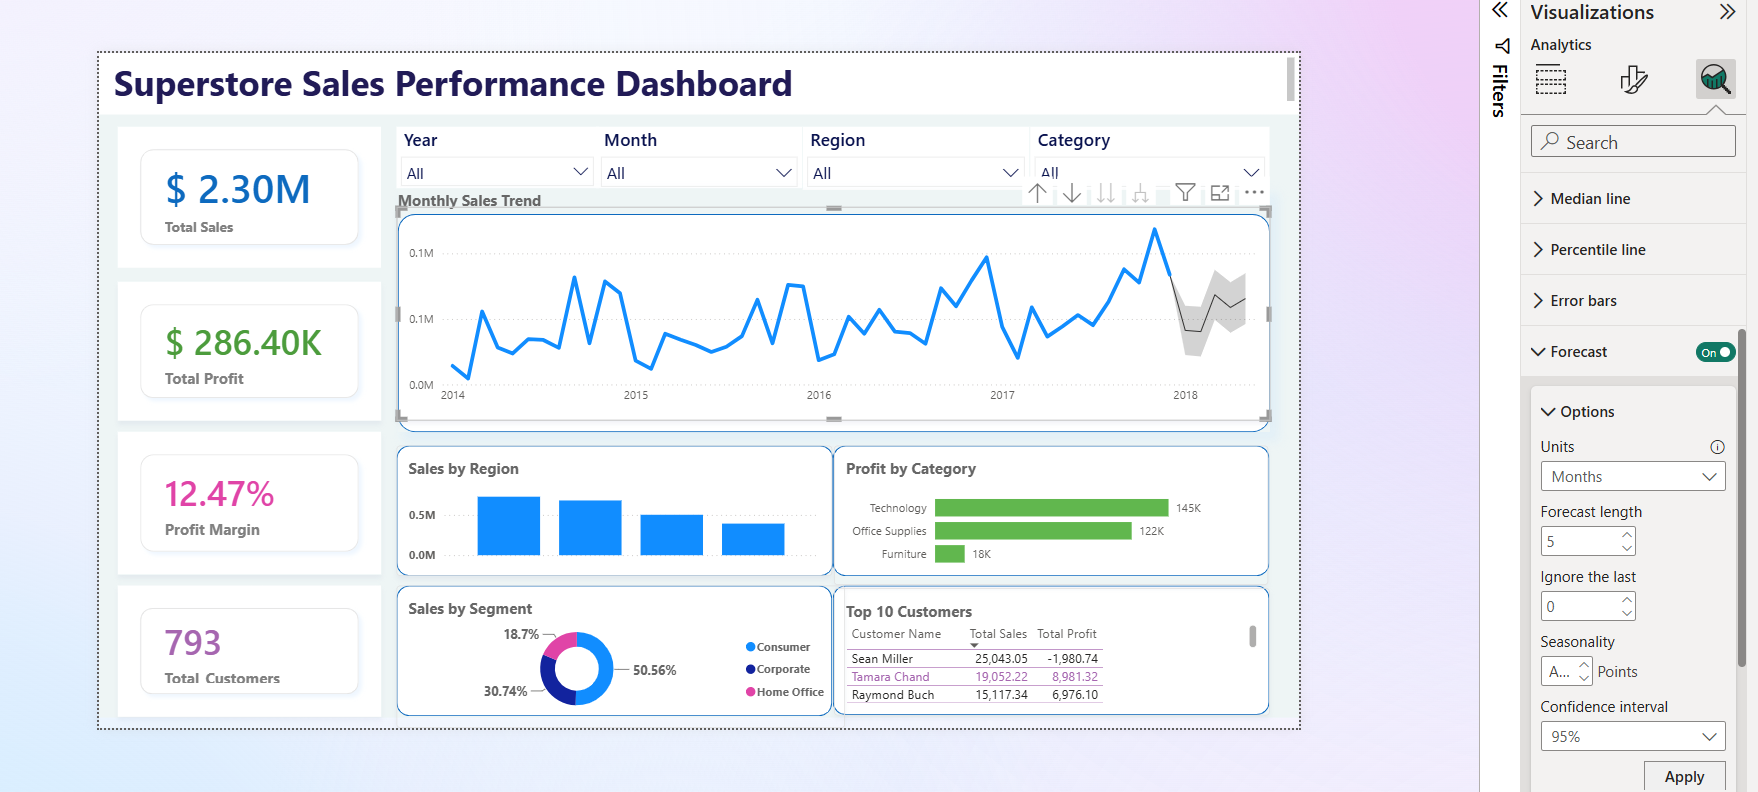

Layout of this report page (visuals, bound fields, positions):
{"tool":"powerbi","page":{"name":"Page 1","canvas":[1280,720],"ordinal":0},"visuals":[{"type":"shape","box":[0,54.3,1280,654.3],"z":0},{"type":"textbox","box":[0,0,1280.3,65.9],"z":1000},{"type":"cardVisual","fields":{"Data":["Sample - Superstore.Total_Sales"]},"box":[20,78.6,281.4,150],"z":2000},{"type":"cardVisual","fields":{"Data":["Sample - Superstore.Total_Profit"]},"box":[20,244.3,281.4,148.6],"z":3000},{"type":"cardVisual","fields":{"Data":["Sample - Superstore.Profit_Margin"]},"box":[20,404.3,281.4,152.9],"z":4000},{"type":"cardVisual","fields":{"Data":["Sample - Superstore.Total_Customers"]},"box":[20,568.6,281.4,140],"z":5000},{"type":"slicer","fields":{"Values":["Sample - Superstore.Clean_Order_Date.Variation.Date Hierarchy.Year"]},"box":[317,78.2,215.4,65.9],"z":6000},{"type":"slicer","fields":{"Values":["Sample - Superstore.Clean_Order_Date.Variation.Date Hierarchy.Month"]},"box":[531,78.2,219.6,65.9],"z":7000},{"type":"slicer","fields":{"Values":["Sample - Superstore.Region"]},"box":[750.6,78.2,241.5,67.2],"z":8000},{"type":"slicer","fields":{"Values":["Sample - Superstore.Category"]},"box":[992.9,78.3,255.6,67.3],"z":9000},{"type":"shape","title":"Monthly Sales Trend","box":[318.4,145.5,930.4,259.3],"z":10000},{"type":"lineChart","title":"Total Sales by Month","fields":{"Y":["Sample - Superstore.Total_Sales"],"Category":["Sample - Superstore.Clean_Order_Date.Variation.Date Hierarchy.Year","Sample - Superstore.Clean_Order_Date.Variation.Date Hierarchy.Month"]},"box":[317,164.7,931.7,227.8],"z":11000},{"type":"shape","box":[316.7,418.2,465.9,139.4],"z":12000},{"type":"shape","box":[782.6,418.2,465.9,139.4],"z":13000},{"type":"shape","box":[317.9,567.4,464.7,139.4],"z":14000},{"type":"shape","box":[782.6,567.4,465.9,138.2],"z":15000},{"type":"clusteredColumnChart","title":" Sales by Region","fields":{"Category":["Sample - Superstore.Region"],"Y":["Sample - Superstore.Total_Sales"]},"box":[317.9,418.2,464.7,139.4],"z":16000},{"type":"clusteredBarChart","title":" Profit by Category","fields":{"Y":["Sum(Sample - Superstore.Profit)"],"Category":["Sample - Superstore.Category"]},"box":[783.8,418.2,463.5,149.2],"z":17000},{"type":"donutChart","title":"Sales by Segment","fields":{"Category":["Sample - Superstore.Segment"],"Y":["Sample - Superstore.Total_Sales"]},"box":[317.9,568.6,478.1,151.6],"z":18000},{"type":"tableEx","title":"Top 10 Customers","fields":{"Values":["Sample - Superstore.Customer Name","Sample - Superstore.Total_Sales","Sample - Superstore.Total_Profit"]},"box":[783.8,571.1,464.7,135.7],"z":19000}]}

Visuals, with their boxes on the page's 1280x720 design canvas (x1, y1, x2, y2). These are canvas units, not pixel positions in the 1758x792 screenshot, which may show the page scaled, cropped or inside an application window:
shape: (x1=0, y1=54, x2=1280, y2=709)
textbox: (x1=0, y1=0, x2=1280, y2=66)
cardVisual - Sample - Superstore.Total_Sales: (x1=20, y1=79, x2=301, y2=229)
cardVisual - Sample - Superstore.Total_Profit: (x1=20, y1=244, x2=301, y2=393)
cardVisual - Sample - Superstore.Profit_Margin: (x1=20, y1=404, x2=301, y2=557)
cardVisual - Sample - Superstore.Total_Customers: (x1=20, y1=569, x2=301, y2=709)
slicer - Sample - Superstore.Clean_Order_Date.Variation.Date Hierarchy.Year: (x1=317, y1=78, x2=532, y2=144)
slicer - Sample - Superstore.Clean_Order_Date.Variation.Date Hierarchy.Month: (x1=531, y1=78, x2=751, y2=144)
slicer - Sample - Superstore.Region: (x1=751, y1=78, x2=992, y2=145)
slicer - Sample - Superstore.Category: (x1=993, y1=78, x2=1248, y2=146)
"Monthly Sales Trend" shape: (x1=318, y1=146, x2=1249, y2=405)
"Total Sales by Month" lineChart: (x1=317, y1=165, x2=1249, y2=392)
shape: (x1=317, y1=418, x2=783, y2=558)
shape: (x1=783, y1=418, x2=1248, y2=558)
shape: (x1=318, y1=567, x2=783, y2=707)
shape: (x1=783, y1=567, x2=1248, y2=706)
" Sales by Region" clusteredColumnChart: (x1=318, y1=418, x2=783, y2=558)
" Profit by Category" clusteredBarChart: (x1=784, y1=418, x2=1247, y2=567)
"Sales by Segment" donutChart: (x1=318, y1=569, x2=796, y2=720)
"Top 10 Customers" tableEx: (x1=784, y1=571, x2=1248, y2=707)
